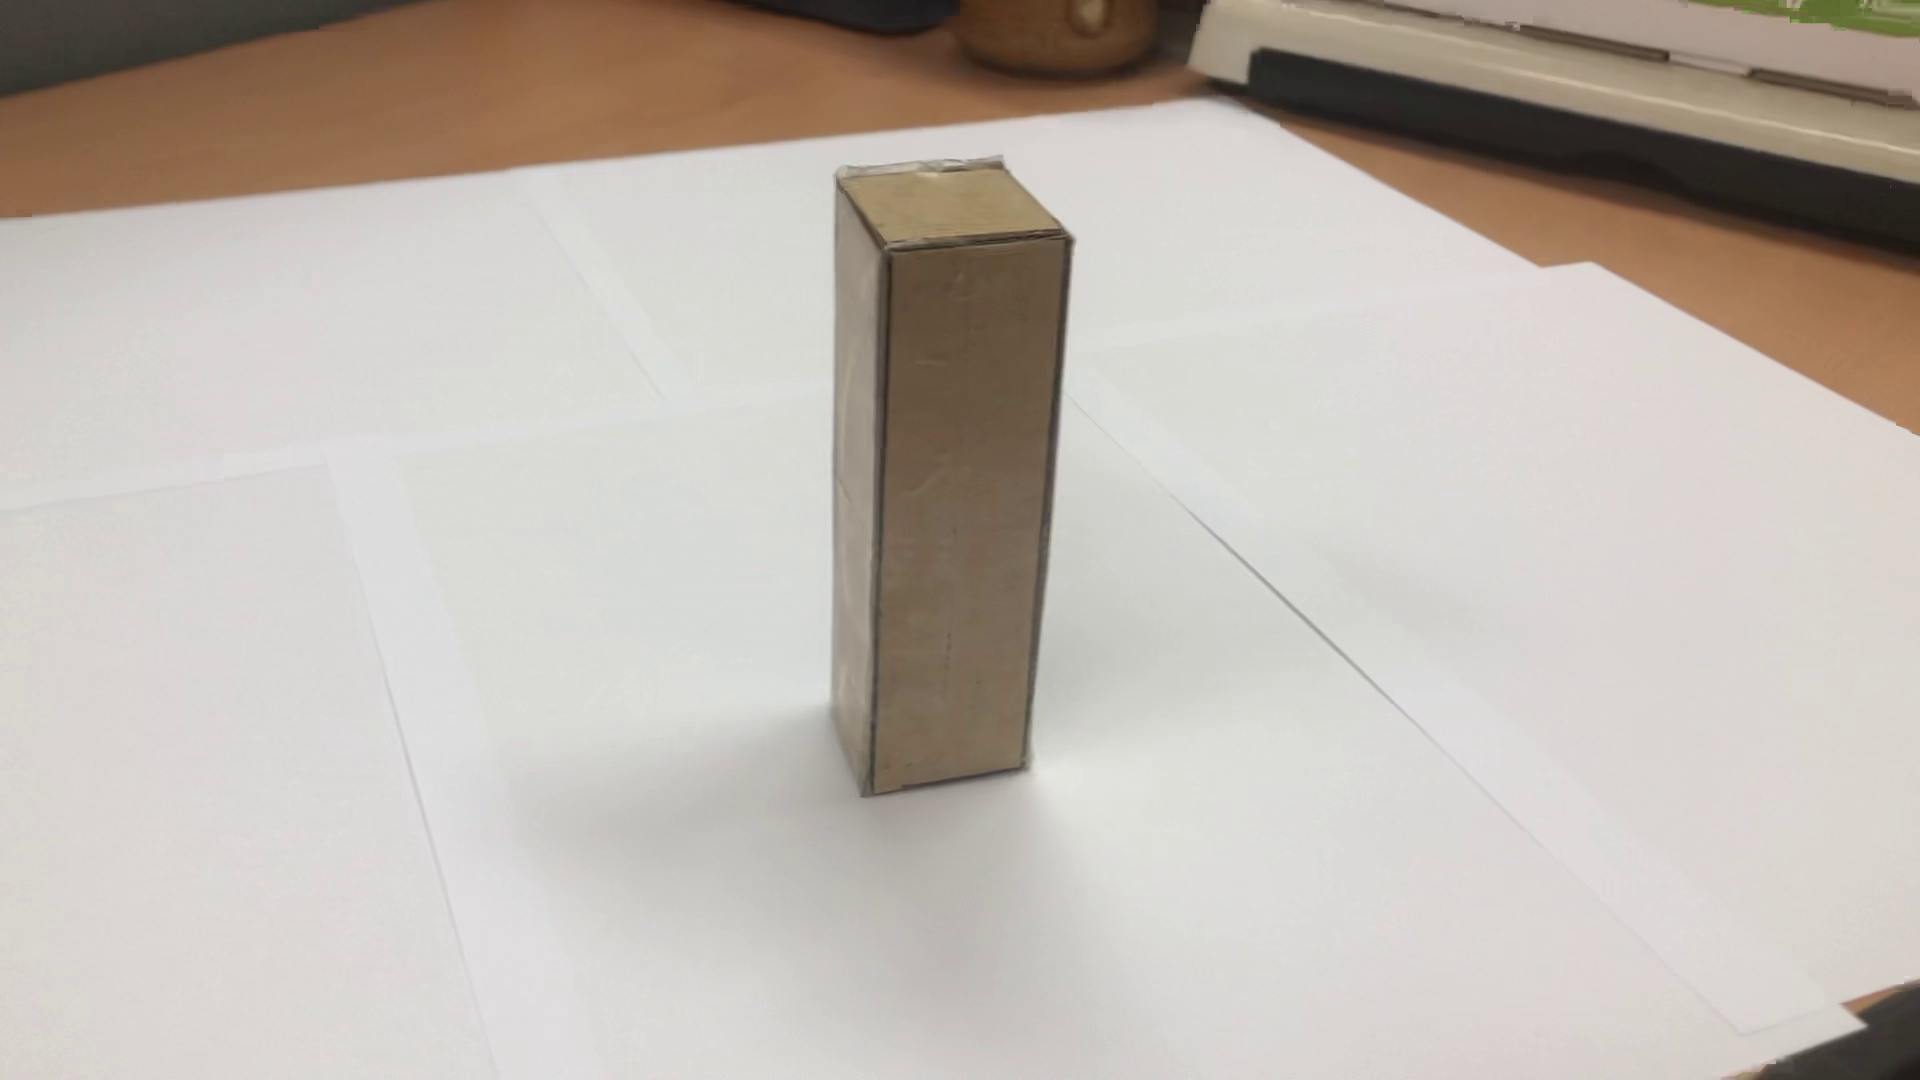box: (814, 127, 1084, 827)
